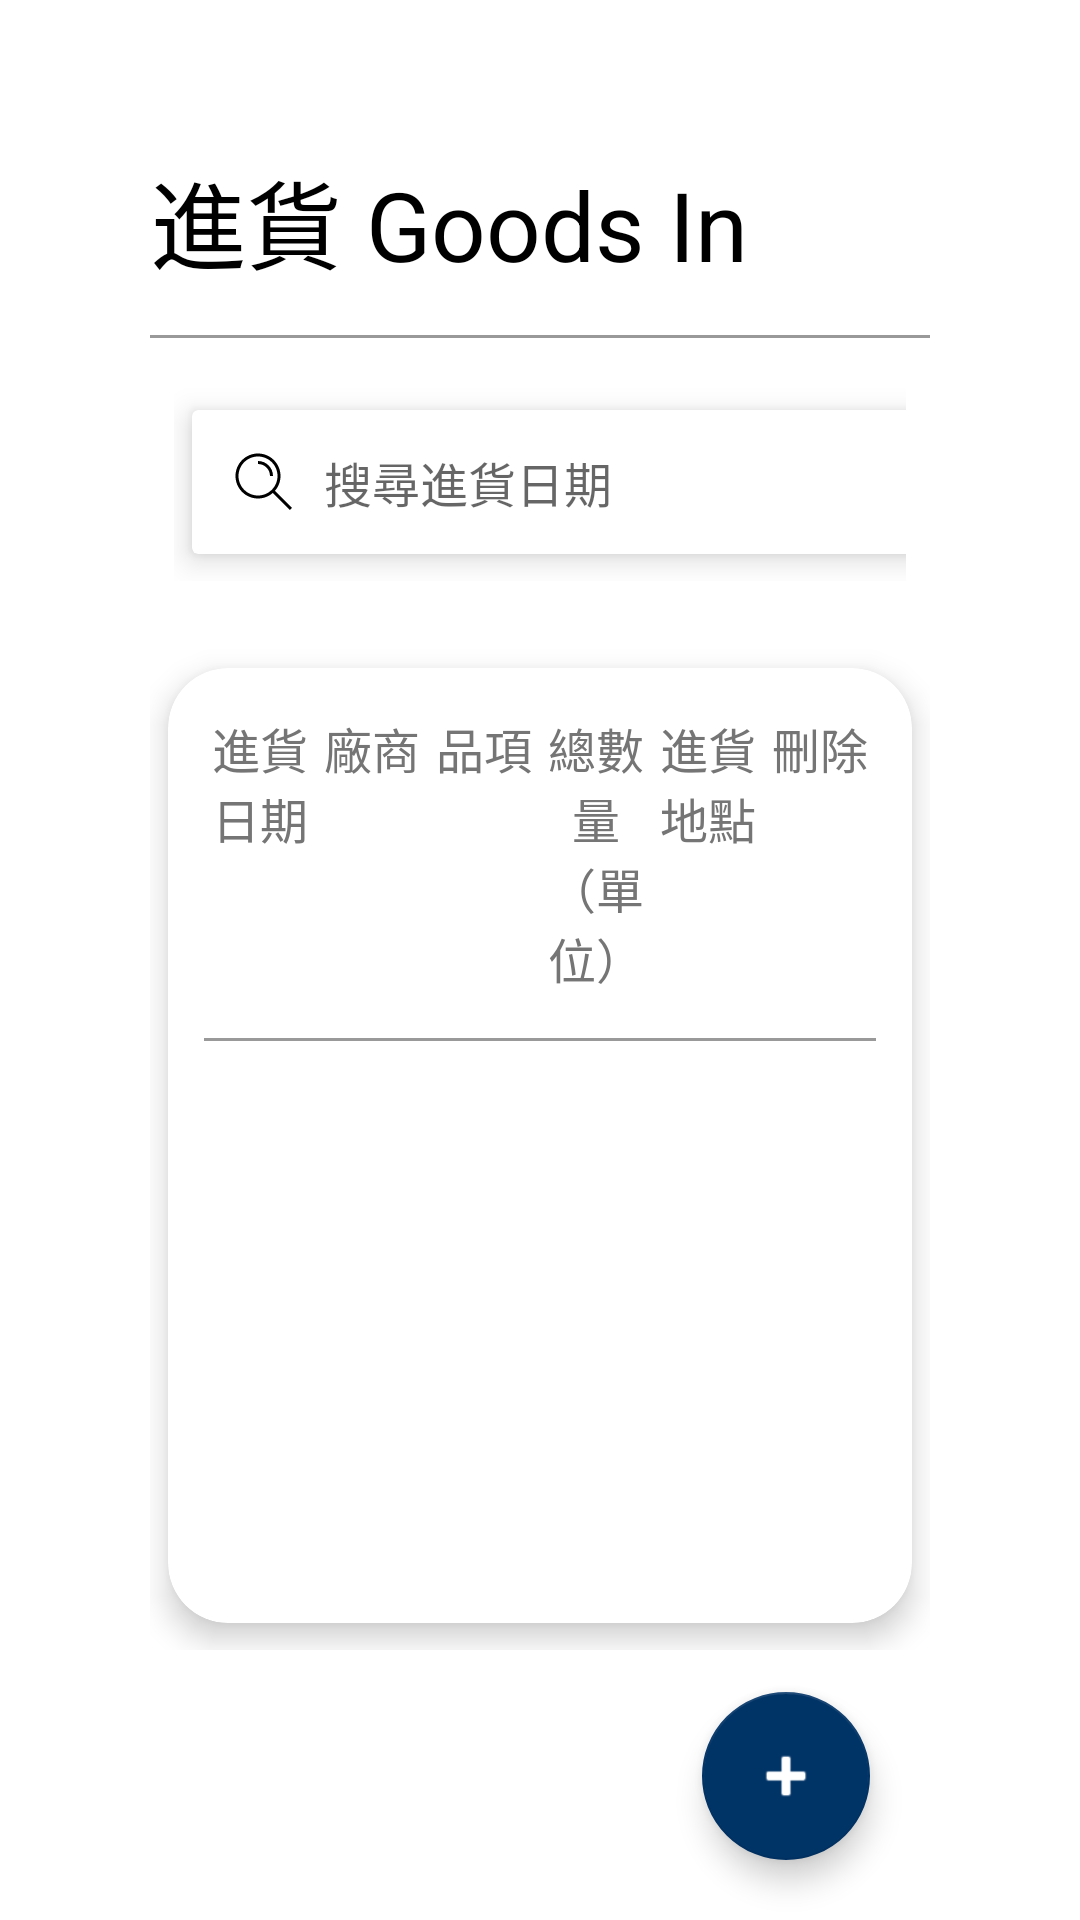

Icons on this 1080w x 1920h Android screen, each with its box as (x1, y1, x2, y2):
新增資料: (702, 1692, 870, 1860)
